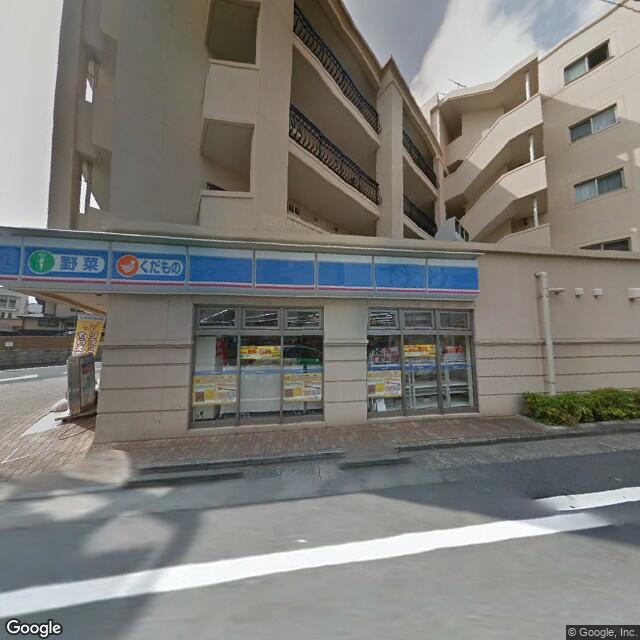lawson: (1, 225, 480, 303)
